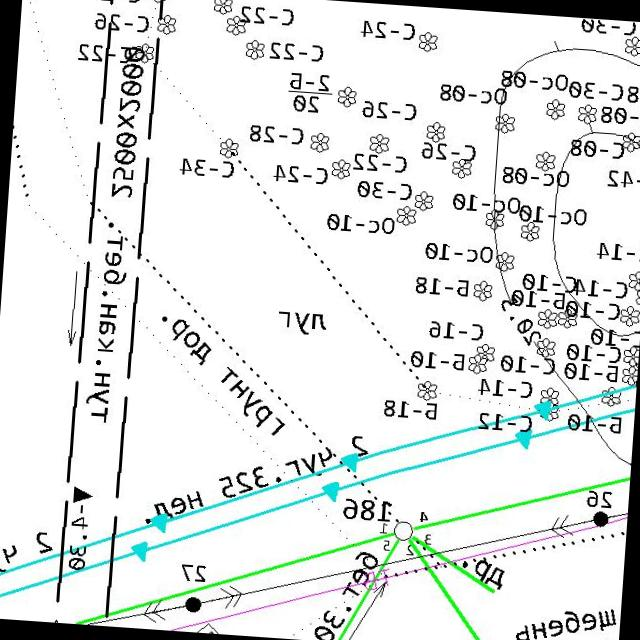bushes: (366, 131, 391, 156), (414, 378, 440, 402), (544, 96, 567, 122), (308, 130, 332, 154), (599, 384, 623, 408), (449, 157, 474, 180), (416, 30, 439, 54), (155, 12, 178, 36), (424, 120, 447, 144), (493, 111, 516, 135), (532, 150, 556, 173), (394, 203, 418, 226), (617, 304, 640, 328), (336, 84, 358, 109), (243, 38, 266, 61), (329, 157, 352, 180), (412, 188, 434, 212), (534, 335, 556, 359), (224, 14, 247, 36), (218, 136, 240, 159), (576, 102, 598, 125), (518, 220, 540, 243), (472, 279, 494, 302), (484, 208, 506, 230), (494, 250, 516, 272), (536, 308, 558, 330), (466, 353, 488, 375), (134, 41, 154, 64), (620, 130, 640, 153), (557, 308, 579, 328), (475, 342, 496, 362), (538, 386, 561, 404), (620, 365, 638, 388), (623, 34, 640, 58), (538, 403, 559, 422), (622, 343, 639, 366), (211, 0, 235, 16), (145, 0, 168, 4)
mark: (70, 484, 94, 506)
well: (389, 516, 416, 546)
